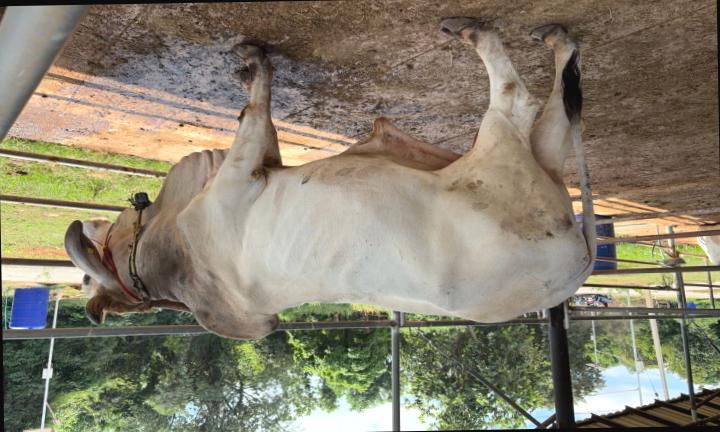Brahman: (64, 19, 595, 339)
